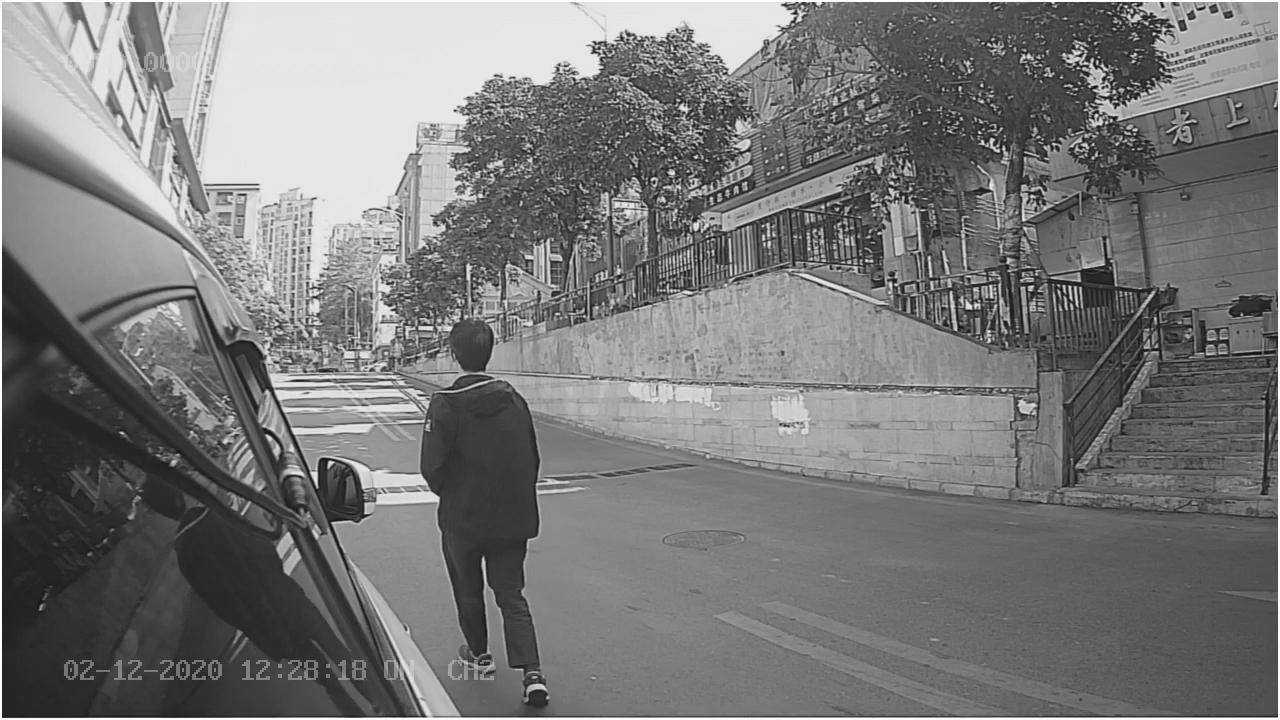person: (410, 315, 584, 707)
